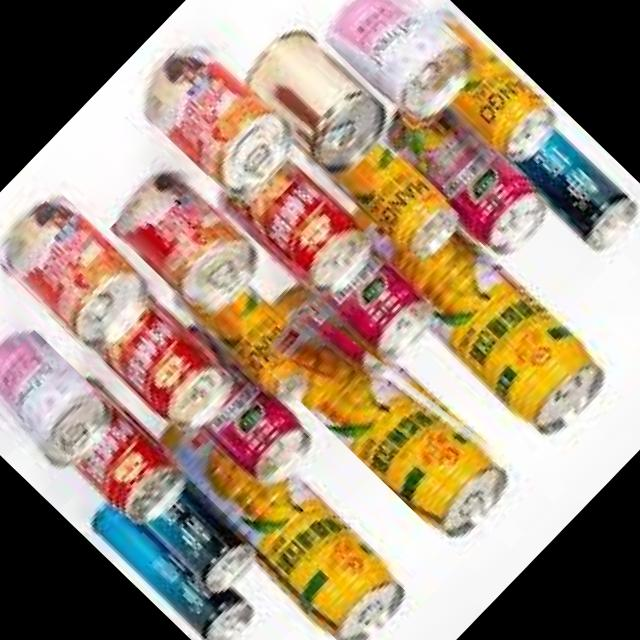Cans: (253, 282, 532, 556), (128, 20, 318, 208), (0, 188, 163, 361), (108, 161, 270, 322), (314, 0, 494, 141), (0, 329, 117, 478)
